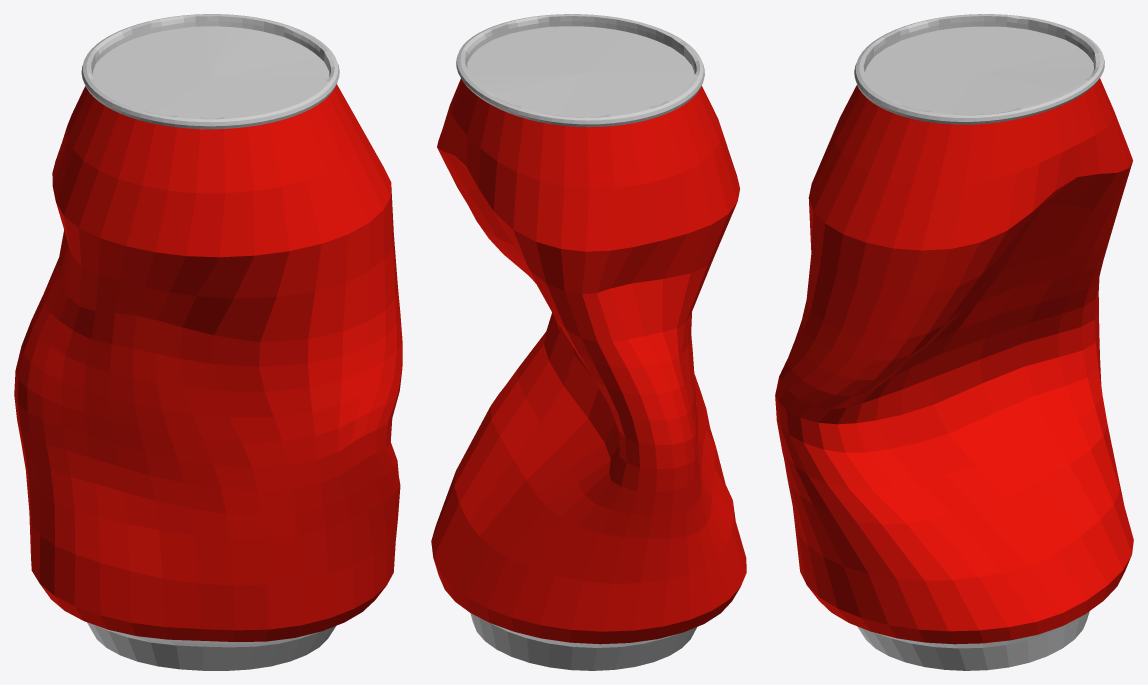
Rendered from Crushed_Can.fbx.
3 renders of one model, left to right at view 1: azimuth 30°, elevation 25°; view 2: azimuth 150°, elevation 25°; view 3: azimuth 270°, elevation 25°, orthographic.
Visible parts, largest first — view 1: Can.002; view 2: Can.002; view 3: Can.002.
Part boxes in pixels (x1,y1,x2,y2): Can.002: [14, 14, 402, 670]; Can.002: [431, 14, 746, 670]; Can.002: [775, 14, 1133, 670].
Size of the model in its own units: 290 by 517 by 299.
